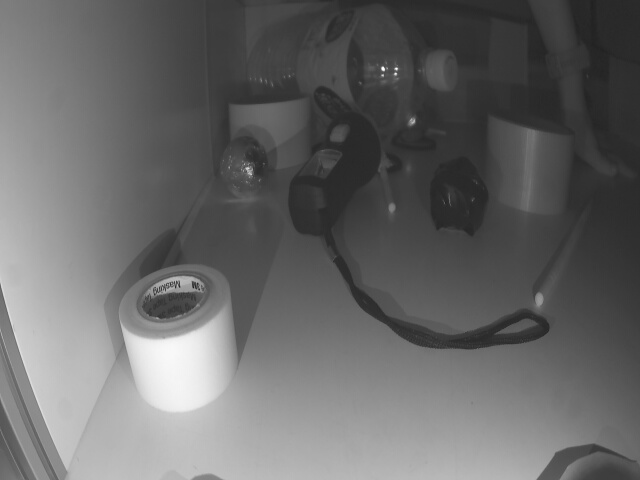Dead: (432, 160, 488, 237)
Live: (217, 139, 271, 196), (401, 107, 432, 139)
